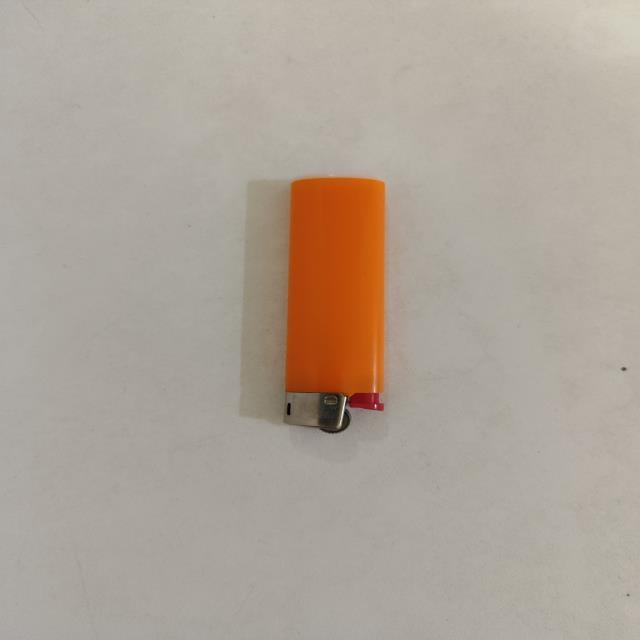lighter: (282, 178, 387, 437)
